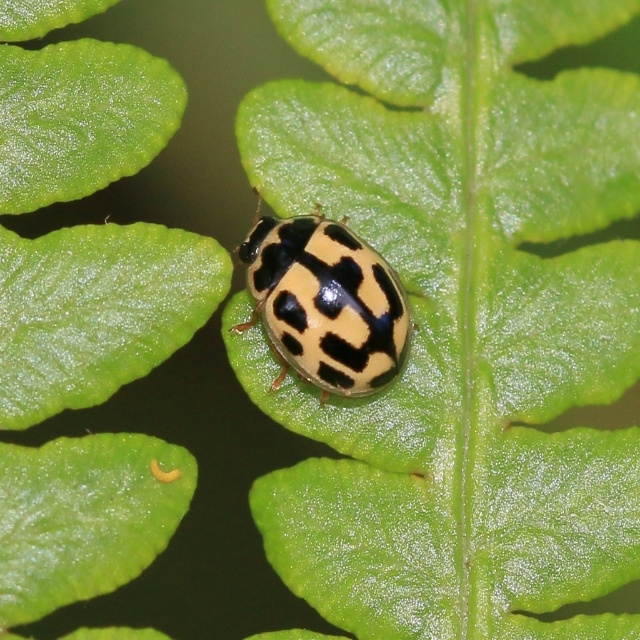Ladybug: (229, 194, 413, 398)
